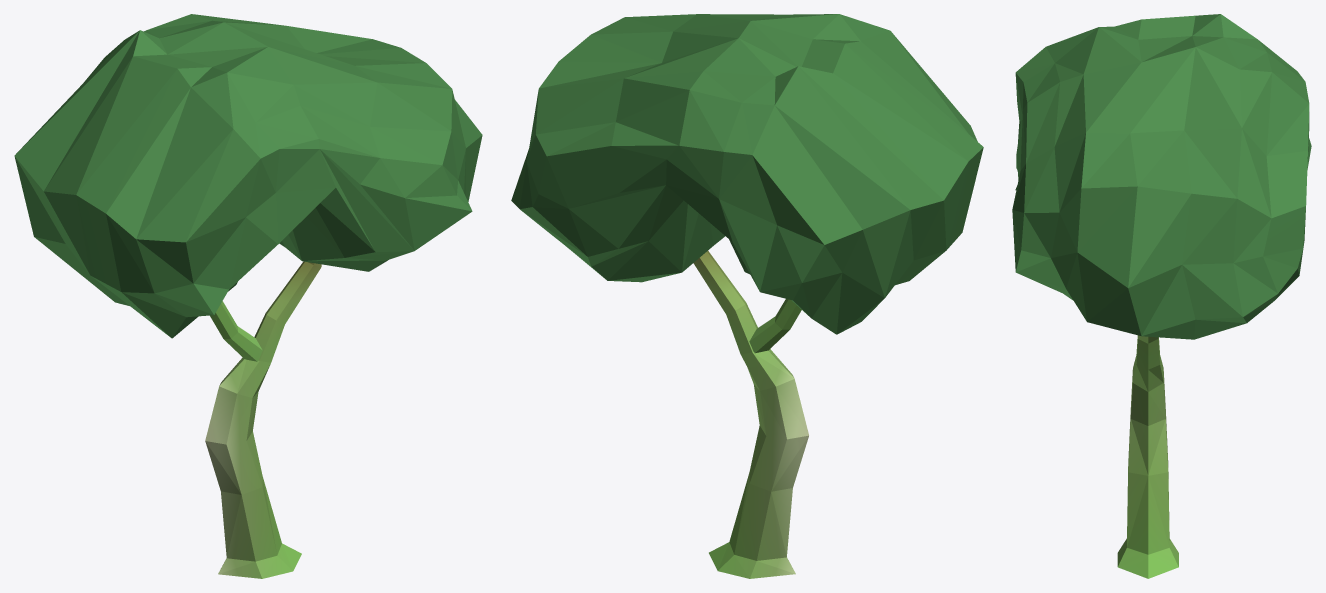
The model's file is tree_d.gltf.
3 renders of one model, left to right at view 1: azimuth 30°, elevation 25°; view 2: azimuth 150°, elevation 25°; view 3: azimuth 270°, elevation 25°, orthographic. The views are drawn at different scales.
Visible parts, largest first — view 1: tree_d001; view 2: tree_d001; view 3: tree_d001.
Part boxes in pixels (bbox=[...]): tree_d001: bbox=[14, 14, 482, 578]; tree_d001: bbox=[511, 14, 983, 578]; tree_d001: bbox=[1012, 14, 1311, 578].
Size of the model in its own units: 3.69 by 4.5 by 2.41.
1 material, 1 textured.
